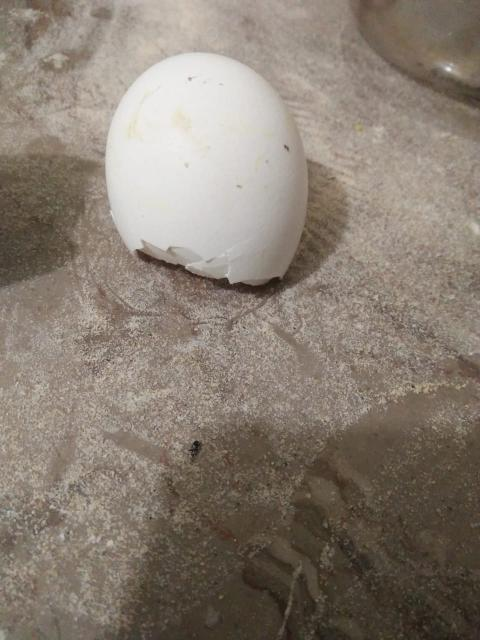Roto: (104, 51, 310, 287)
